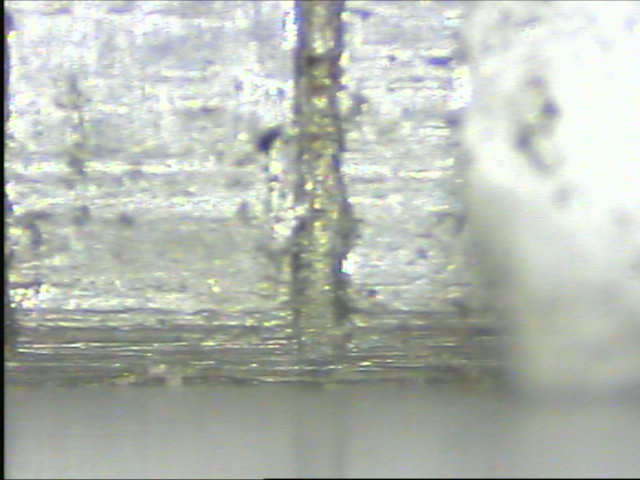line: (287, 1, 351, 332)
